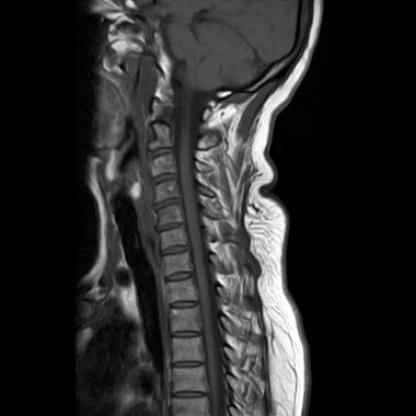Disc Bulgerotation: (154, 221, 183, 236)
Disc Protrusionrotation: (159, 243, 189, 258), (153, 196, 181, 212)
